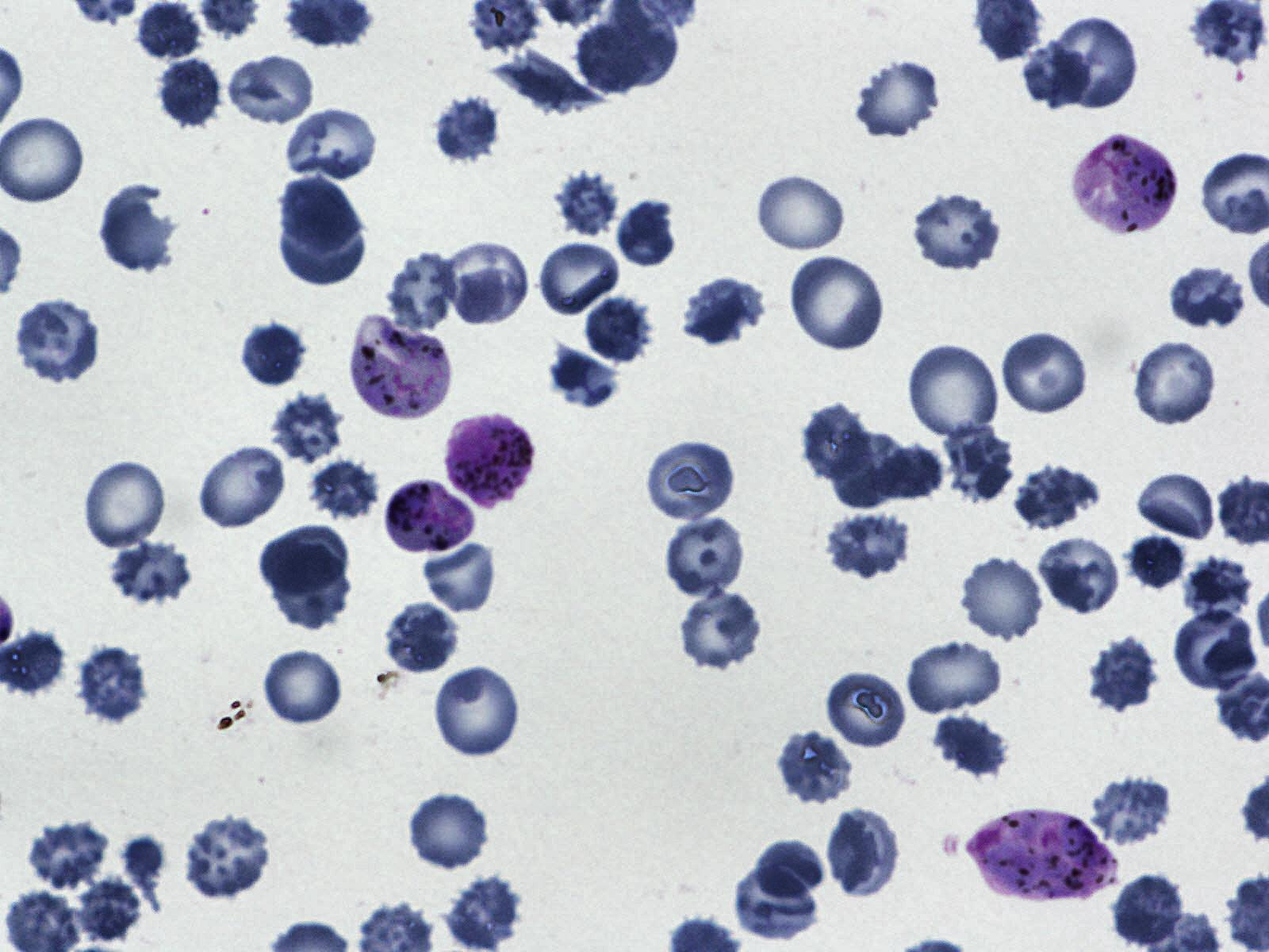Infected: (962, 805, 1121, 904), (1072, 136, 1175, 236), (351, 320, 450, 418), (443, 411, 537, 509), (384, 478, 475, 556)
Uninfected: (786, 251, 888, 355), (1048, 14, 1141, 111), (432, 662, 523, 761), (906, 342, 999, 437), (903, 636, 1006, 718), (81, 459, 169, 552), (755, 170, 849, 255), (1000, 329, 1091, 416), (283, 192, 366, 287), (910, 190, 1005, 272), (439, 239, 527, 327), (1132, 339, 1219, 428), (959, 552, 1045, 642), (677, 585, 766, 671), (13, 298, 102, 383), (179, 817, 274, 896), (491, 48, 606, 113), (1173, 607, 1260, 692), (664, 512, 747, 600), (856, 58, 943, 139), (227, 52, 317, 130), (827, 808, 903, 900), (650, 441, 735, 523), (200, 447, 286, 528), (826, 670, 908, 754), (286, 107, 379, 181), (272, 544, 350, 631), (263, 647, 346, 727), (407, 792, 491, 871), (421, 537, 502, 618), (1036, 537, 1118, 617), (99, 184, 173, 272), (824, 507, 914, 579), (279, 172, 361, 251), (734, 865, 815, 943), (1010, 467, 1105, 533), (1131, 471, 1219, 542), (259, 526, 348, 596), (539, 243, 623, 317), (678, 276, 764, 348), (769, 731, 853, 803), (832, 430, 908, 509), (27, 820, 113, 889), (109, 539, 196, 607), (941, 422, 1014, 503), (801, 400, 871, 484), (1090, 774, 1171, 845), (1111, 870, 1184, 948), (388, 251, 458, 332), (75, 647, 148, 724), (447, 877, 522, 950), (380, 601, 457, 672), (573, 19, 645, 94), (1089, 636, 1160, 712), (155, 54, 225, 131), (267, 393, 344, 461), (931, 712, 1008, 780), (581, 297, 655, 367), (553, 169, 624, 239), (1183, 555, 1254, 623), (1169, 265, 1244, 329), (433, 95, 500, 164), (233, 321, 303, 387), (1025, 39, 1091, 109), (73, 877, 142, 943), (550, 344, 620, 409), (868, 443, 945, 501), (309, 459, 379, 522), (618, 198, 679, 269), (135, 1, 206, 61), (753, 841, 826, 899), (1127, 532, 1187, 592)
